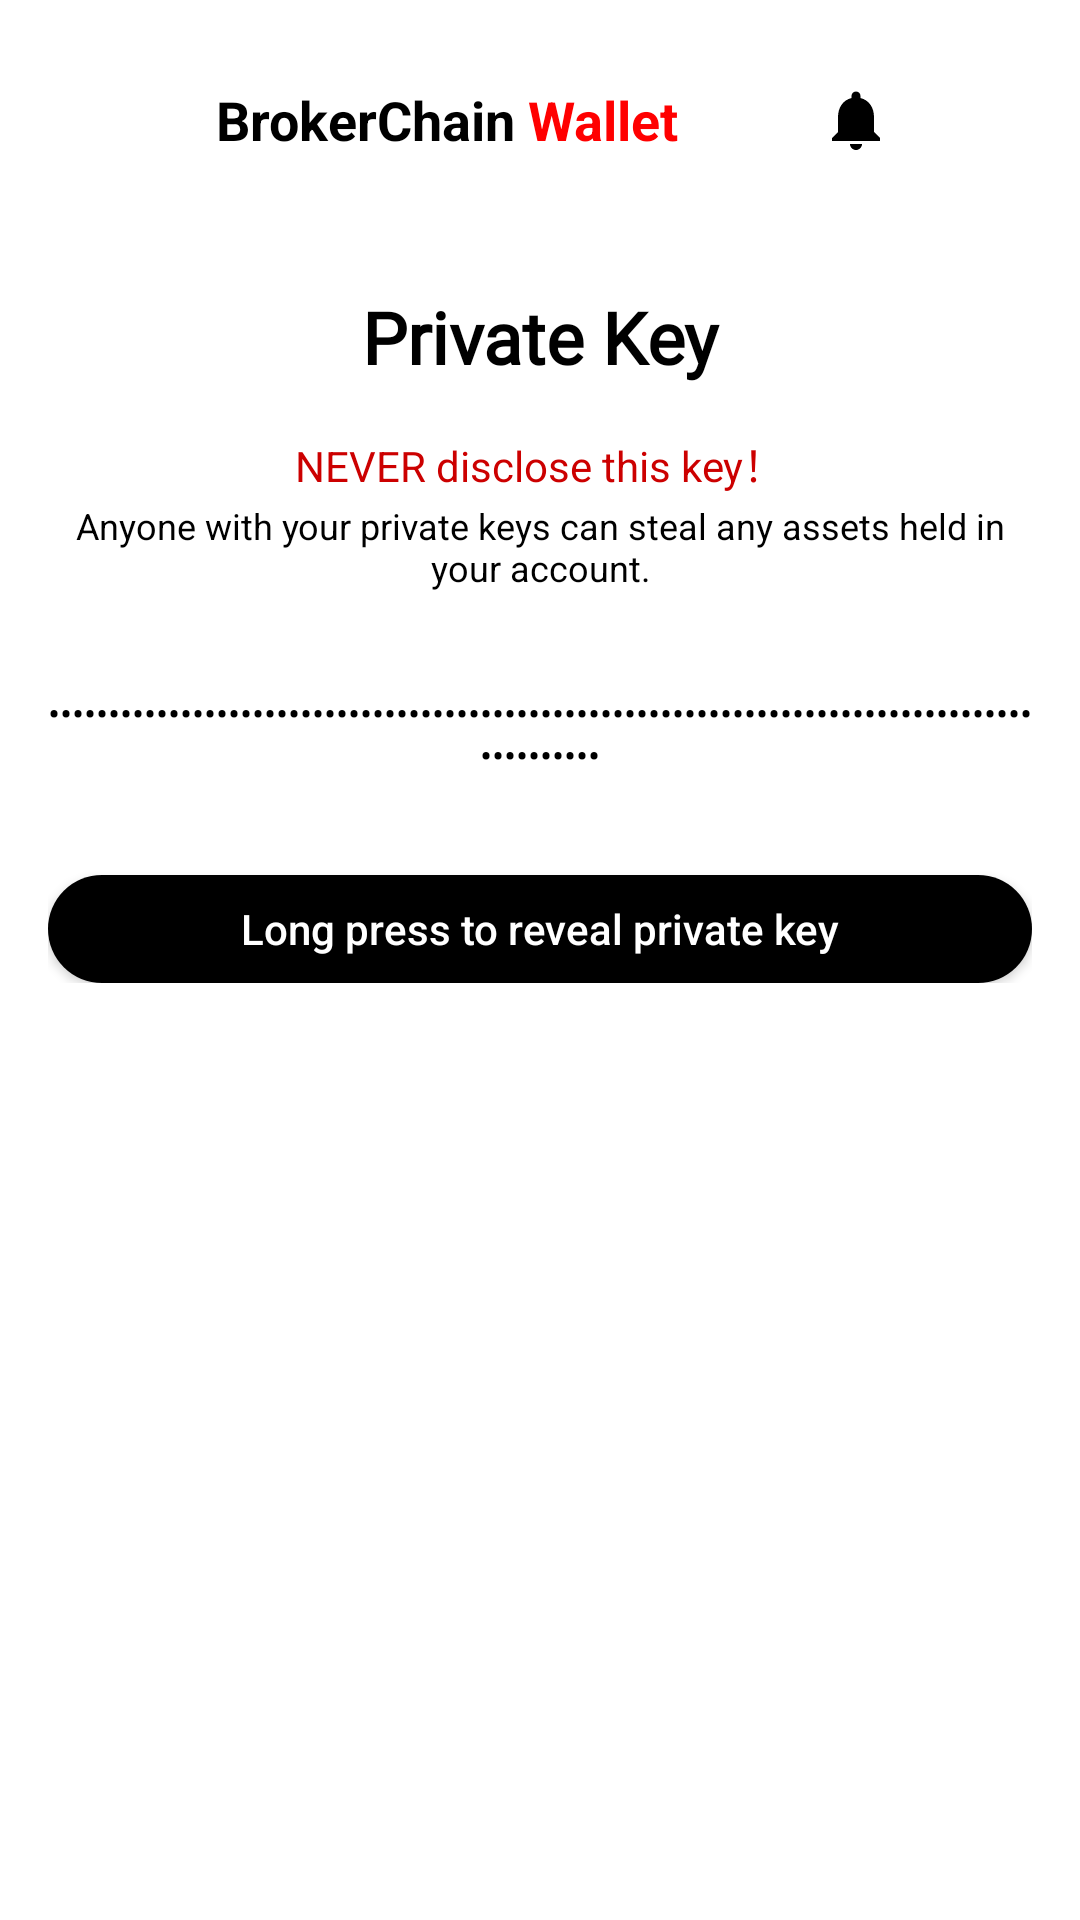

Where icons sit on this 1080*1920 app screen, as (left=x1, top=y1, right=x2, bottom=y2):
Notifications: (left=832, top=91, right=880, bottom=150)
